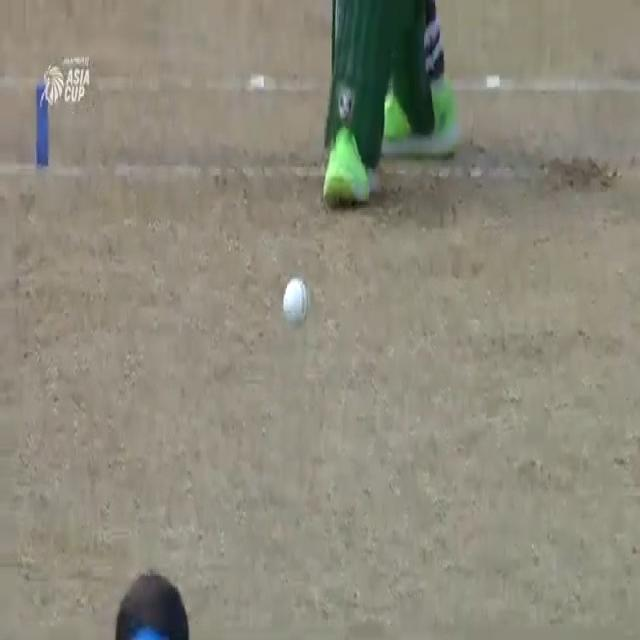Cricket ball: (281, 273, 314, 333)
